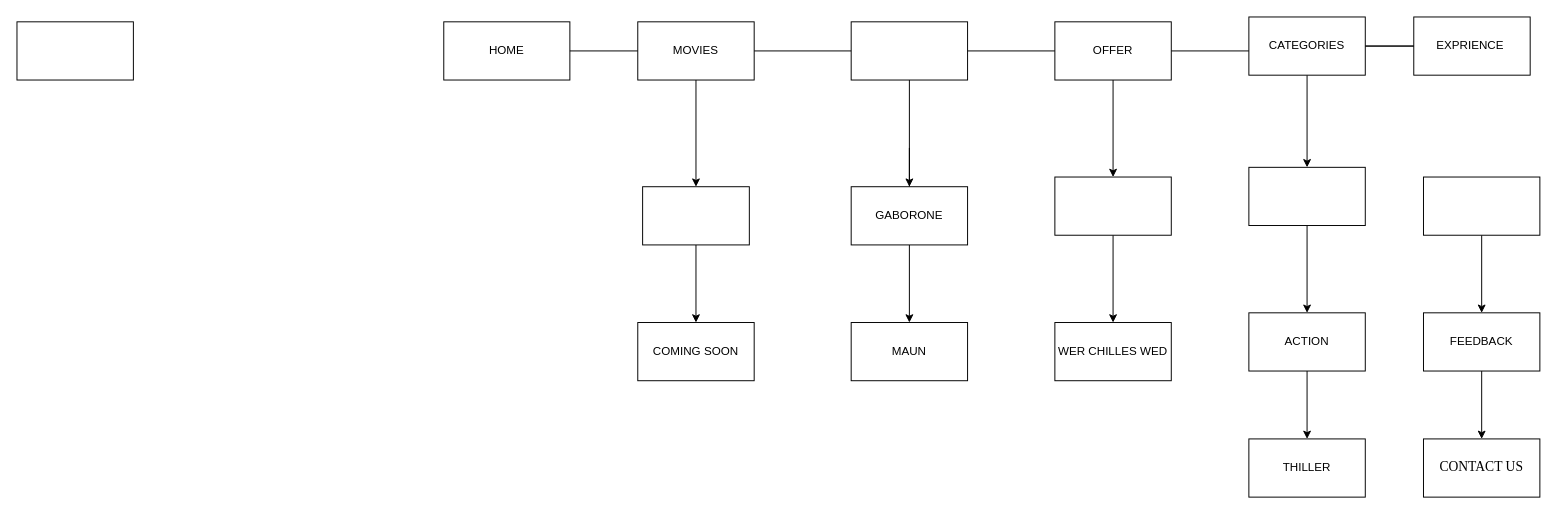
The diagram is 1557 pixels wide and 514 high, and some of its shapes have lost their labels. The box of each missing label's shape, as (x1, y1, x2, y2) in pixels:
BLOCK BUSTERS: (1248, 166, 1365, 226)
HALF PRICE: (1054, 176, 1171, 235)
LOGO: (16, 21, 133, 80)
NOW SHOWING: (642, 186, 749, 245)
REVIEW: (1423, 176, 1540, 235)
THEATRE: (850, 21, 968, 80)
